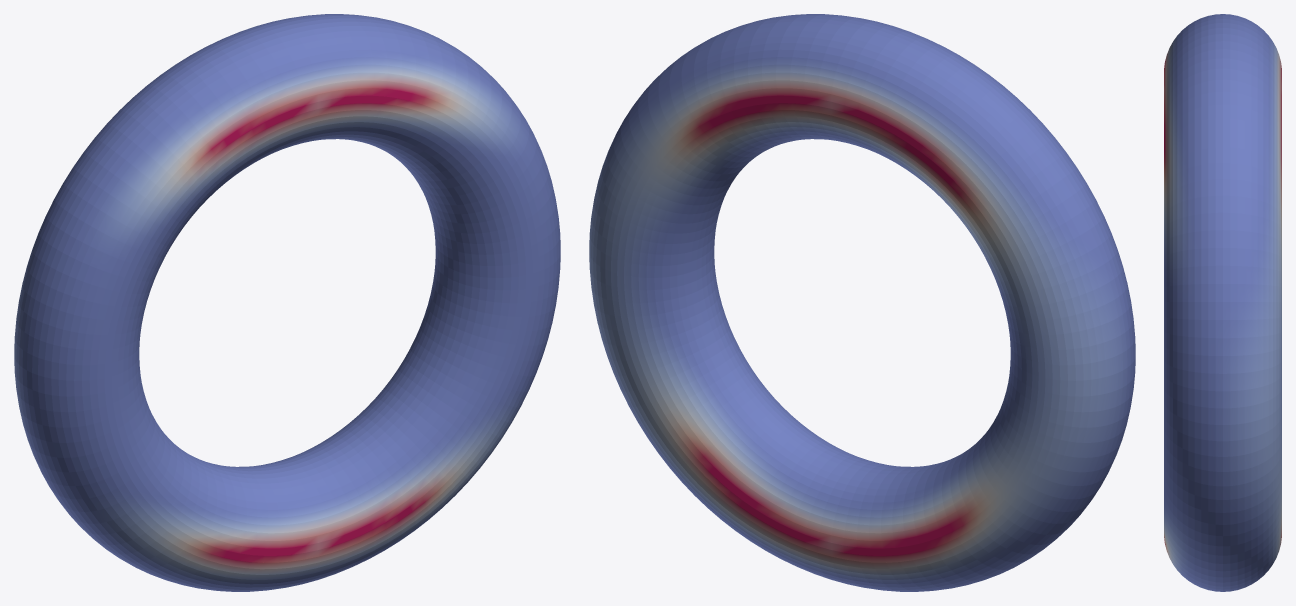
The picture shows the model from 3 angles, left to right: view 1: azimuth 30°, elevation 25°; view 2: azimuth 150°, elevation 25°; view 3: azimuth 270°, elevation 25°; orthographic projection. The views are drawn at different scales.
Visible parts, largest first — view 1: world; view 2: world; view 3: world.
Boxes of the visible parts, x1,y1,x2,y2 form: world: [14, 14, 560, 591]; world: [589, 14, 1135, 591]; world: [1164, 14, 1281, 591].
Size of the model in its own units: 17.6 by 17.6 by 3.59.
